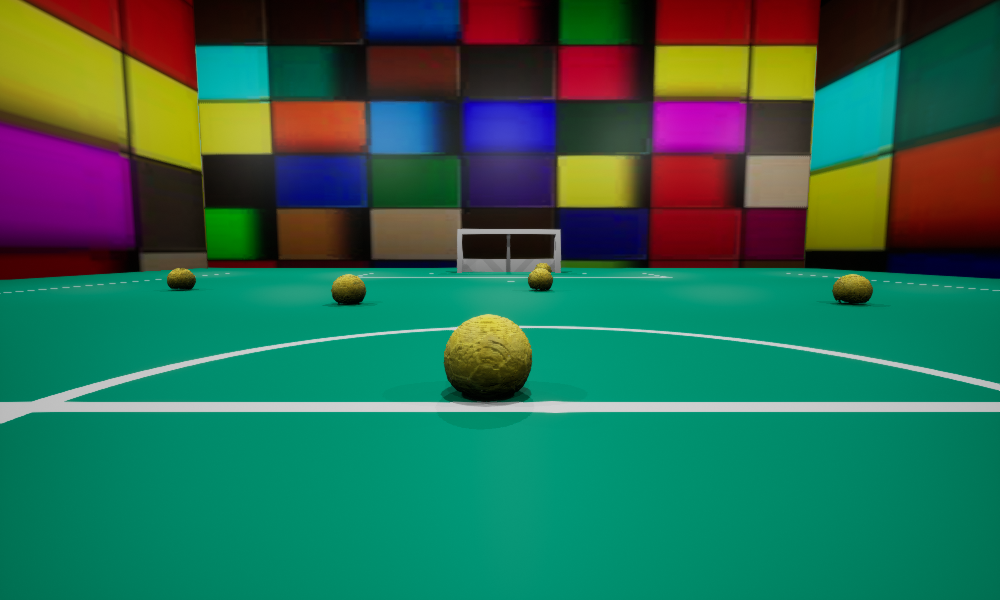b: (444, 314, 531, 400), (832, 274, 872, 304), (331, 274, 365, 304), (167, 268, 195, 289), (528, 268, 552, 290), (534, 263, 551, 272)
g: (457, 229, 560, 272)
